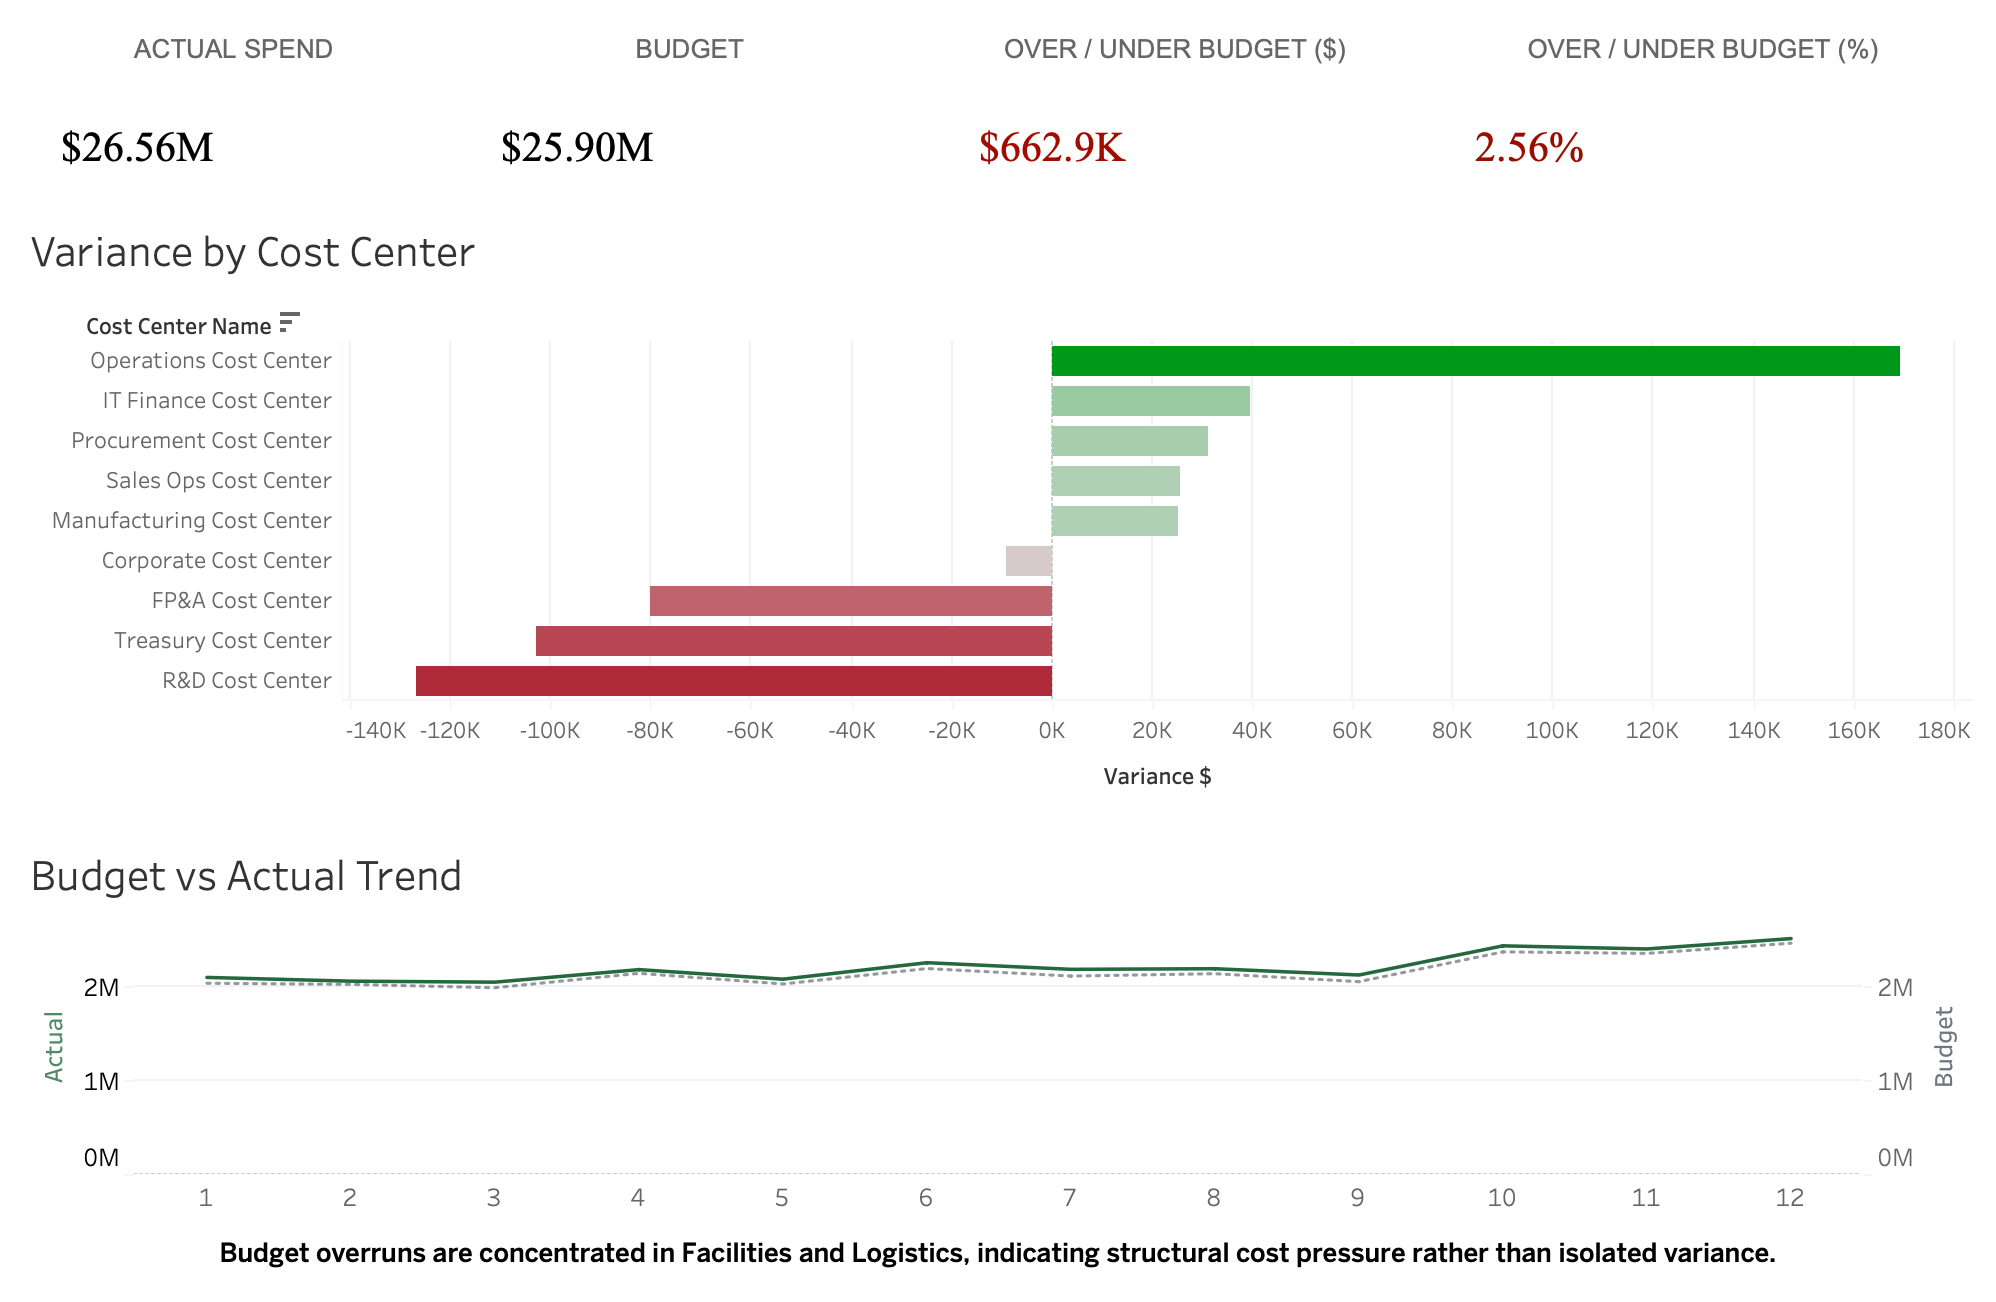

Layout of this report page (visuals, bound fields, positions):
{"tool":"tableau","page":{"name":"Executive KPI & Variance Overview","canvas":[1000,1000],"units":"permille","ordinal":1},"visuals":[{"type":"text","box":[8,12.2,220,56.6]},{"type":"text","box":[228,12.2,236,56.6]},{"type":"text","box":[464,12.2,249,56.6]},{"type":"text","box":[713,12.2,279,56.6]},{"type":"worksheet","title":"KPI Summary","mark":"Text","box":[8,68.8,220,92]},{"type":"worksheet","title":"KPI Summary (2)","mark":"Text","box":[228,68.8,236,92]},{"type":"worksheet","title":"KPI Summary (3)","mark":"Text","box":[464,68.8,249,92]},{"type":"worksheet","title":"KPI Summary (4)","mark":"Text","box":[713,68.8,279,92]},{"type":"worksheet","title":"Variance by Cost Center","mark":"Automatic","rows":["cost_center_name"],"cols":["Calculation_5434155918152953859"],"box":[8,160.8,984,477.8]},{"type":"worksheet","title":"Trend Sheet","mark":"Line","rows":["Calculation_5434155918152826881","Calculation_5434155918152876034"],"cols":["fiscal_period"],"box":[8,638.6,984,300.2]},{"type":"text","box":[8,938.7,984,49]}]}

Visuals, with their boxes on the dashboard's canvas, which has no fixed pixel size, in thousandths of its width and height (x1, y1, x2, y2). These are canvas units, not pixel positions in the 1996x1302 screenshot, which may show the page scaled, cropped or inside an application window:
text: bbox=(8, 12, 228, 69)
text: bbox=(228, 12, 464, 69)
text: bbox=(464, 12, 713, 69)
text: bbox=(713, 12, 992, 69)
"KPI Summary" worksheet (Text marks): bbox=(8, 69, 228, 161)
"KPI Summary (2)" worksheet (Text marks): bbox=(228, 69, 464, 161)
"KPI Summary (3)" worksheet (Text marks): bbox=(464, 69, 713, 161)
"KPI Summary (4)" worksheet (Text marks): bbox=(713, 69, 992, 161)
"Variance by Cost Center" worksheet: bbox=(8, 161, 992, 639)
"Trend Sheet" worksheet (Line marks): bbox=(8, 639, 992, 939)
text: bbox=(8, 939, 992, 988)
